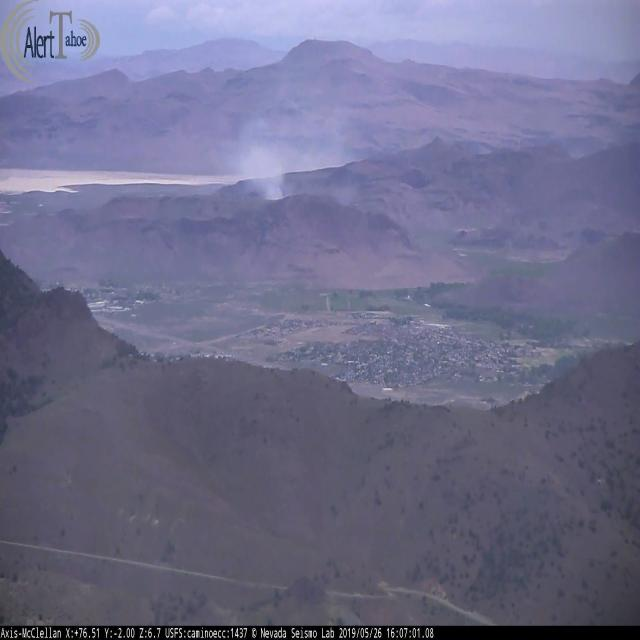smoke: (239, 122, 293, 200)
